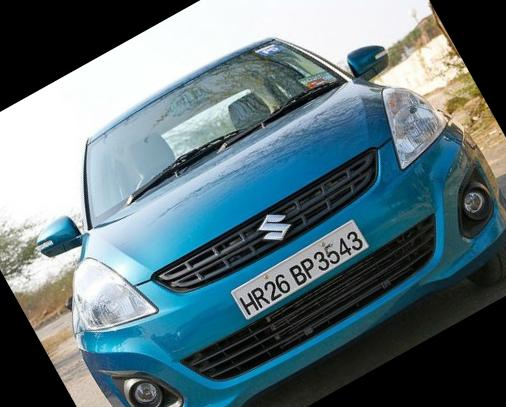plate: (218, 212, 389, 342)
